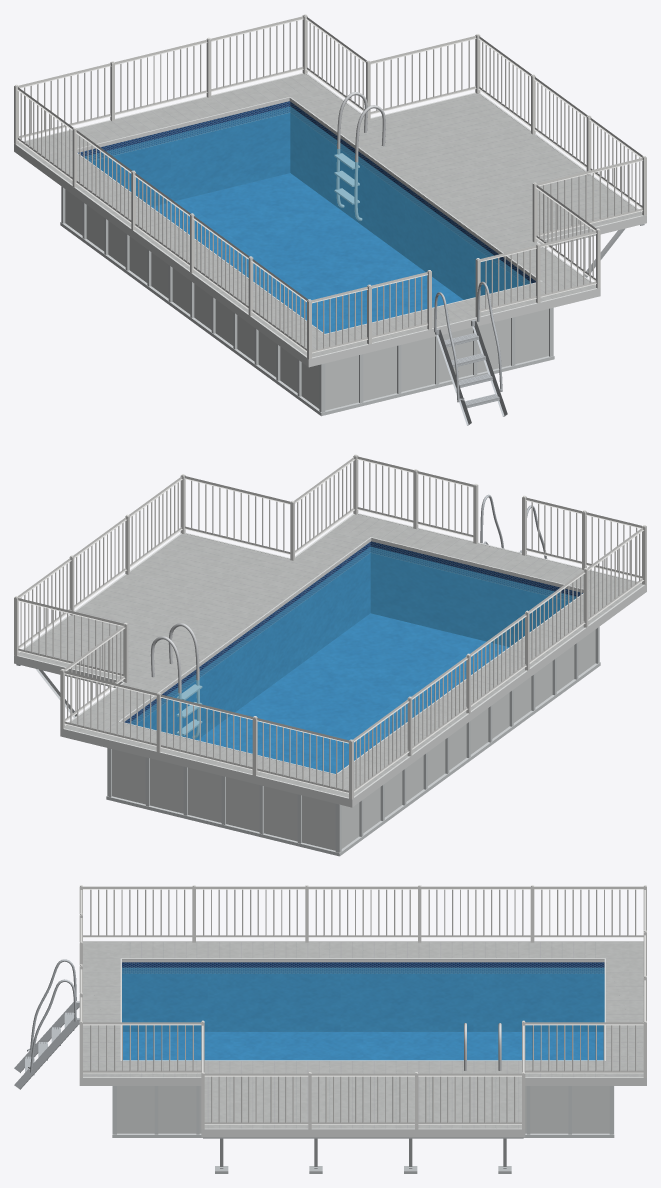
Rendered from kayak-pool-12x24-white-t-ag-fence.dcc997c4ae.glb.
3 renders of one model, top to bottom at view 1: azimuth 30°, elevation 25°; view 2: azimuth 150°, elevation 25°; view 3: azimuth 270°, elevation 25°, orthographic. The views are drawn at different scales.
Parts seen in each view (by area): view 1: water, deck, fence, liner_wall, liner_floor, wall, fascia, upright, ladder, steel; view 2: water, deck, fence, liner_wall, liner_floor, wall, fascia, upright, steel; view 3: water, deck, liner_wall, fence, liner_floor, fascia, wall, ladder, upright, stud.
Part boxes in pixels (bbox=[...]): water: bbox=[84, 106, 531, 333]; deck: bbox=[18, 74, 642, 357]; fence: bbox=[14, 14, 646, 358]; liner_wall: bbox=[78, 101, 535, 299]; liner_floor: bbox=[152, 173, 463, 333]; wall: bbox=[65, 189, 548, 410]; fascia: bbox=[14, 73, 646, 367]; upright: bbox=[60, 186, 554, 416]; ladder: bbox=[434, 281, 507, 425]; steel: bbox=[334, 92, 385, 220]; water: bbox=[129, 547, 575, 773]; deck: bbox=[18, 514, 642, 797]; fence: bbox=[14, 454, 646, 799]; liner_wall: bbox=[124, 541, 582, 739]; liner_floor: bbox=[198, 613, 508, 773]; wall: bbox=[112, 629, 595, 850]; fascia: bbox=[14, 513, 646, 807]; upright: bbox=[106, 626, 600, 856]; steel: bbox=[150, 623, 202, 738]; water: bbox=[122, 967, 604, 1060]; deck: bbox=[83, 942, 643, 1128]; liner_wall: bbox=[122, 962, 604, 1031]; fence: bbox=[79, 885, 646, 1129]; liner_floor: bbox=[123, 1032, 603, 1060]; fascia: bbox=[79, 941, 646, 1137]; wall: bbox=[117, 1086, 609, 1133]; ladder: bbox=[14, 959, 79, 1089]; upright: bbox=[112, 1086, 614, 1137]; stud: bbox=[203, 1137, 523, 1173].
Size of the model in its own units: 6.71 by 2.15 by 9.52.
11 materials, 3 textured.
